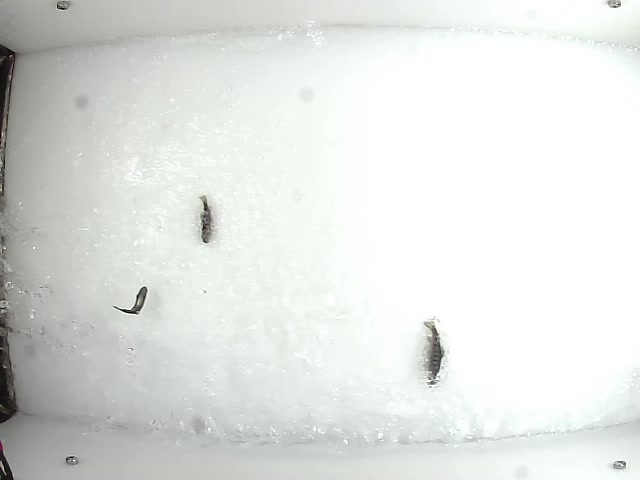fish: (421, 318, 446, 386), (197, 191, 218, 246), (113, 284, 147, 317)
